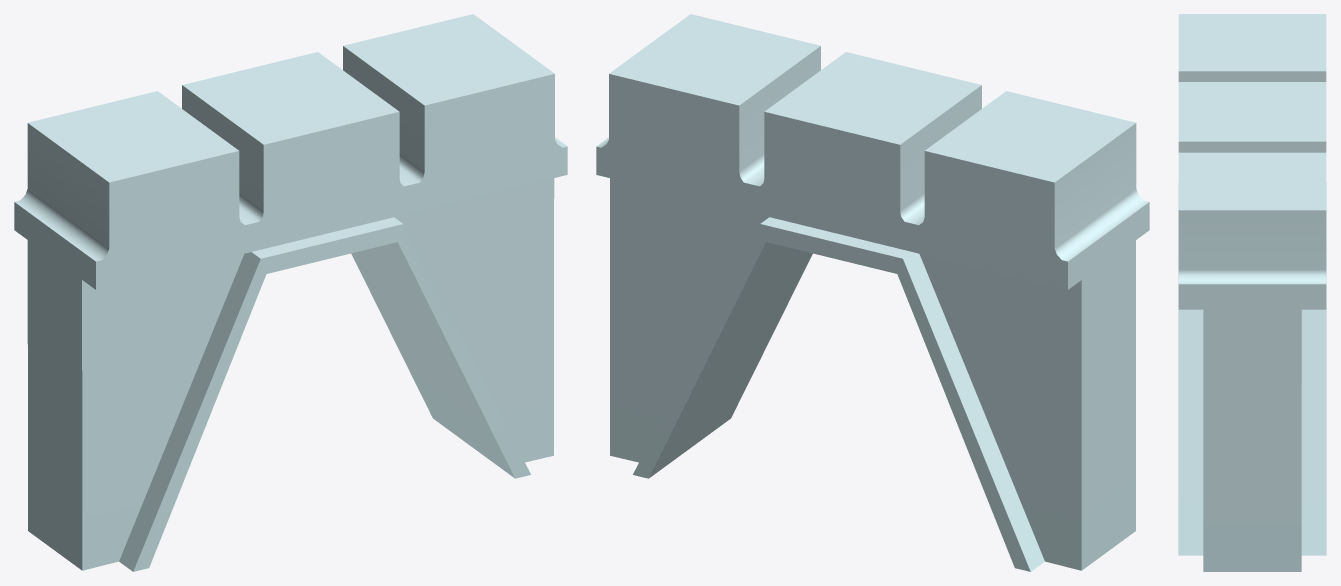
The model's file is SS_Castle_Gate.fbx.
3 views of the same model, side by side, from view 1: azimuth 30°, elevation 25°; view 2: azimuth 150°, elevation 25°; view 3: azimuth 270°, elevation 25° (orthographic). The views are drawn at different scales.
Visible parts, largest first — view 1: Castle_Gate; view 2: Castle_Gate; view 3: Castle_Gate.
Part boxes in pixels (x1=…): Castle_Gate: x1=14, y1=14, x2=567, y2=571; Castle_Gate: x1=596, y1=14, x2=1149, y2=571; Castle_Gate: x1=1178, y1=14, x2=1326, y2=571.
Size of the model in its own units: 5 by 4 by 1.51.
